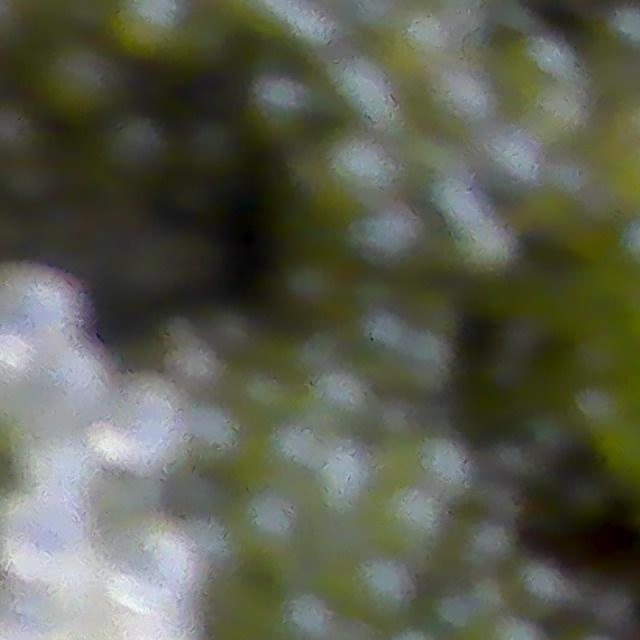SeaGrape: (90, 373, 186, 474), (0, 484, 94, 582), (103, 519, 199, 611), (0, 261, 82, 366), (26, 341, 109, 430), (39, 40, 120, 121), (11, 420, 93, 492), (100, 110, 173, 182), (379, 486, 445, 552), (112, 0, 181, 58)
